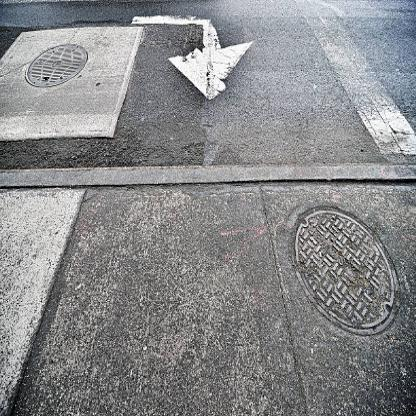manholes: (282, 196, 400, 341), (17, 33, 94, 104)
